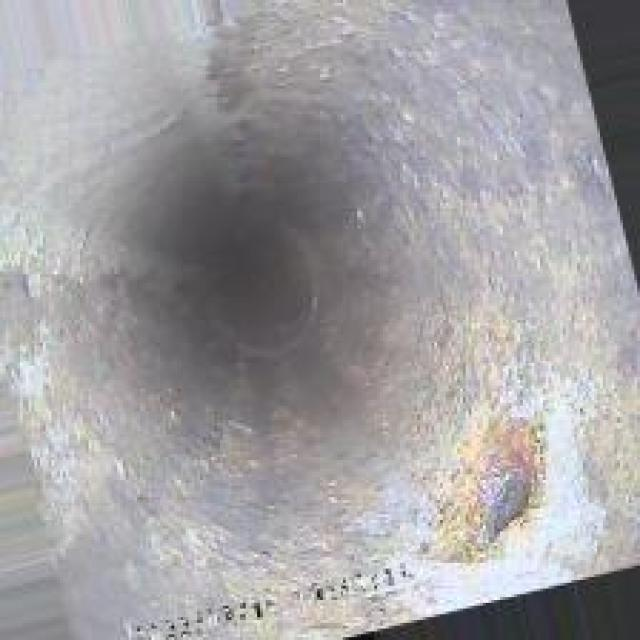ferrule: (440, 429, 549, 557)
